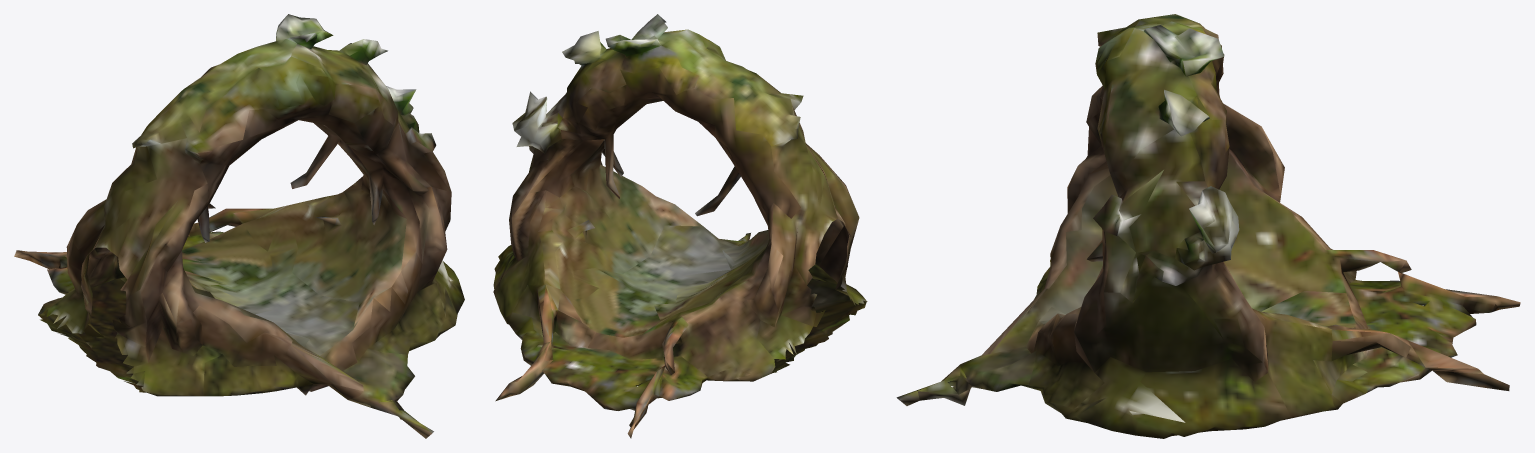
Rendered from F3D_05_RootBridge.fbx.
3 views of the same model, side by side, from view 1: azimuth 30°, elevation 25°; view 2: azimuth 150°, elevation 25°; view 3: azimuth 270°, elevation 25° (orthographic). The views are drawn at different scales.
Visible parts, largest first — view 1: F3D_05_RootBridge; view 2: F3D_05_RootBridge; view 3: F3D_05_RootBridge.
Part boxes in pixels (left/top/right/bottom): F3D_05_RootBridge: left=14, top=14, right=464, bottom=438; F3D_05_RootBridge: left=493, top=14, right=867, bottom=438; F3D_05_RootBridge: left=896, top=14, right=1520, bottom=438.
Bounding box in the file's own units: 1.14 × 1 × 1.51.
